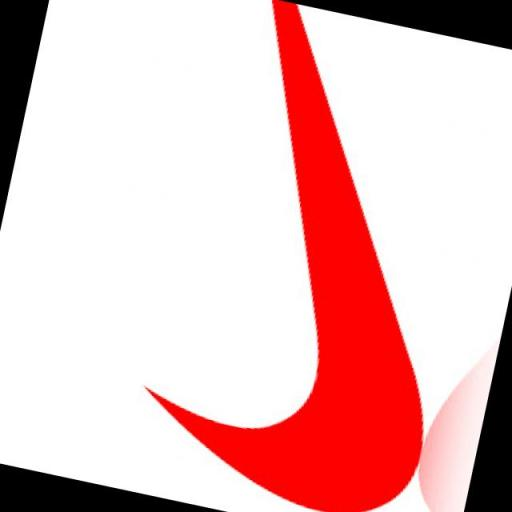Nike: (150, 0, 506, 512)
